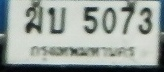txt04: (24, 5, 43, 35)
txt21: (46, 6, 67, 35)
